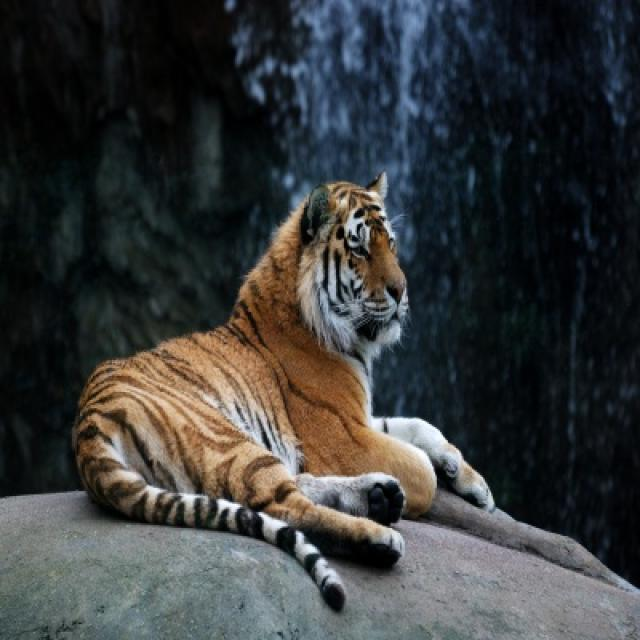Tiger: (73, 170, 499, 609)
